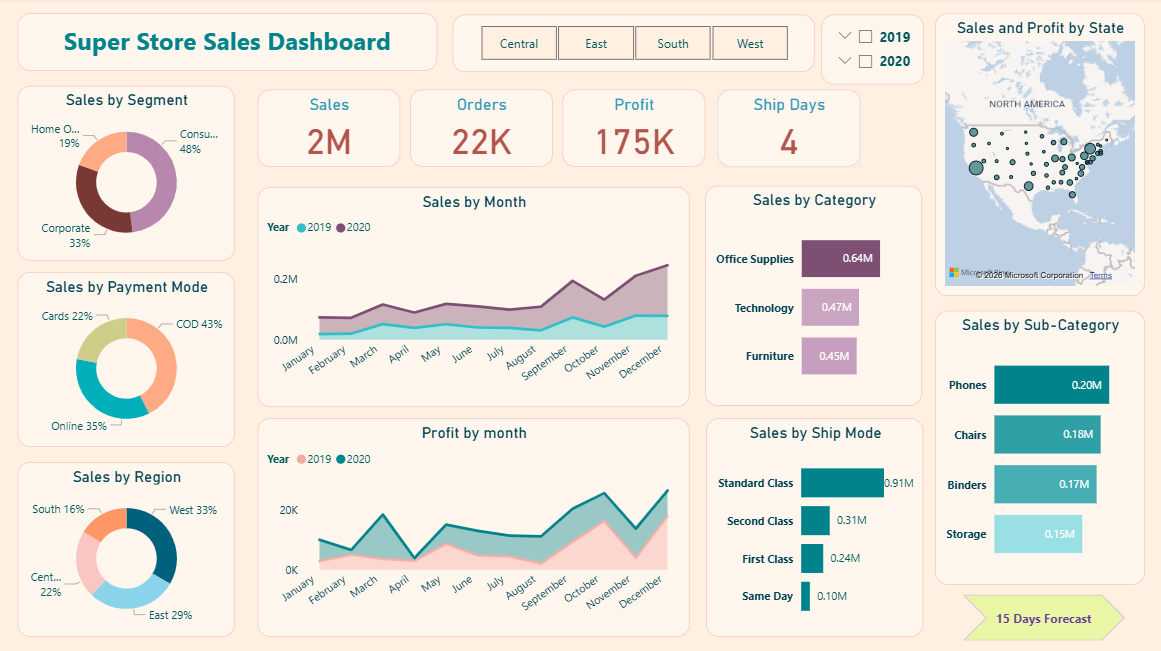

This screenshot's page, from the dashboard's own definition file:
{"tool":"powerbi","page":{"name":"Page 1","canvas":[1280,720],"ordinal":0},"visuals":[{"type":"clusteredBarChart","title":"Sales by Category","fields":{"Category":["Sheet1.Category"],"Y":["Sum(Sheet1.Sales)"]},"box":[779.4,207.2,238.8,241.5],"z":0},{"type":"clusteredBarChart","title":"Sales by Sub-Category","fields":{"Y":["Sum(Sheet1.Sales)"],"Category":["Sheet1.Sub-Category"]},"box":[1031.9,344.4,230.5,300.5],"z":1000},{"type":"clusteredBarChart","title":"Sales by Ship Mode","fields":{"Y":["Sum(Sheet1.Sales)"],"Category":["Sheet1.Ship Mode"]},"box":[780.8,462.4,238.8,240.1],"z":2000},{"type":"stackedAreaChart","title":"Sales by Month","fields":{"Category":["Sheet1.Order Date.Variation.Date Hierarchy.Month","Sheet1.Order Date.Variation.Date Hierarchy.Day"],"Y":["Sum(Sheet1.Sales)"],"Series":["Sheet1.Order Date.Variation.Date Hierarchy.Year"]},"box":[288.2,208.6,474.8,241.5],"z":3000},{"type":"stackedAreaChart","title":"Profit by month","fields":{"Category":["Sheet1.Order Date.Variation.Date Hierarchy.Month","Sheet1.Order Date.Variation.Date Hierarchy.Day"],"Series":["Sheet1.Order Date.Variation.Date Hierarchy.Year"],"Y":["Sum(Sheet1.Profit)"]},"box":[288.2,462.4,474.8,240.1],"z":4000},{"type":"map","title":"Sales and Profit by State","fields":{"Category":["Sheet1.State"],"Size":["Sum(Sheet1.Sales)"]},"box":[1031.9,17.8,230.5,310.1],"z":5000},{"type":"donutChart","title":"Sales by Segment","fields":{"Category":["Sheet1.Segment"],"Y":["Sum(Sheet1.Sales)"]},"box":[24.7,97.4,238.8,192.1],"z":6000},{"type":"donutChart","title":"Sales by Payment Mode","fields":{"Y":["Sum(Sheet1.Sales)"],"Category":["Sheet1.Payment Mode"]},"box":[24.7,301.9,238.8,192.1],"z":7000},{"type":"slicer","fields":{"Values":["Sheet1.Region"]},"box":[502.2,19.2,397.9,63.1],"z":8000},{"type":"textbox","box":[24.7,17.8,461.1,63.1],"z":9000},{"type":"card","title":"Sales","fields":{"Values":["Sum(Sheet1.Sales)"]},"box":[288.2,101.5,156.4,85.1],"z":10000},{"type":"card","title":"Orders","fields":{"Values":["Sum(Sheet1.Quantity)"]},"box":[455.6,101.5,156.4,85.1],"z":11000},{"type":"card","title":"Profit","fields":{"Values":["Sum(Sheet1.Profit)"]},"box":[623,101.5,156.4,85.1],"z":12000},{"type":"card","title":"Ship Days","fields":{"Values":["Avg(Sheet1.AvgDelivery)"]},"box":[793.1,101.5,156.4,85.1],"z":13000},{"type":"donutChart","title":"Sales by Region","fields":{"Y":["Sum(Sheet1.Sales)"],"Category":["Sheet1.Region"]},"box":[24.7,510.5,238.8,192.1],"z":14000},{"type":"slicer","fields":{"Values":["Sheet1.Order Date.Variation.Date Hierarchy.Year","Sheet1.Order Date.Variation.Date Hierarchy.Quarter","Sheet1.Order Date.Variation.Date Hierarchy.Month","Sheet1.Order Date.Variation.Date Hierarchy.Day"]},"box":[907,19.2,112.5,76.8],"z":15000},{"type":"actionButton","box":[1062.1,655.9,178.4,50.8],"z":16000}]}

Visuals, with their boxes in screenshot pixels (x1, y1, x2, y2), scaled from the page's 1280x720 canvas onto the 1161x651 screenshot:
"Sales by Category" clusteredBarChart: (left=707, top=187, right=924, bottom=406)
"Sales by Sub-Category" clusteredBarChart: (left=936, top=311, right=1145, bottom=583)
"Sales by Ship Mode" clusteredBarChart: (left=708, top=418, right=925, bottom=635)
"Sales by Month" stackedAreaChart: (left=261, top=189, right=692, bottom=407)
"Profit by month" stackedAreaChart: (left=261, top=418, right=692, bottom=635)
"Sales and Profit by State" map: (left=936, top=16, right=1145, bottom=296)
"Sales by Segment" donutChart: (left=22, top=88, right=239, bottom=262)
"Sales by Payment Mode" donutChart: (left=22, top=273, right=239, bottom=447)
slicer - Sheet1.Region: (left=456, top=17, right=816, bottom=74)
textbox: (left=22, top=16, right=441, bottom=73)
"Sales" card: (left=261, top=92, right=403, bottom=169)
"Orders" card: (left=413, top=92, right=555, bottom=169)
"Profit" card: (left=565, top=92, right=707, bottom=169)
"Ship Days" card: (left=719, top=92, right=861, bottom=169)
"Sales by Region" donutChart: (left=22, top=462, right=239, bottom=635)
slicer - Sheet1.Order Date.Variation.Date Hierarchy.Year x Sheet1.Order Date.Variation.Date Hierarchy.Quarter: (left=823, top=17, right=925, bottom=87)
actionButton: (left=963, top=593, right=1125, bottom=639)
